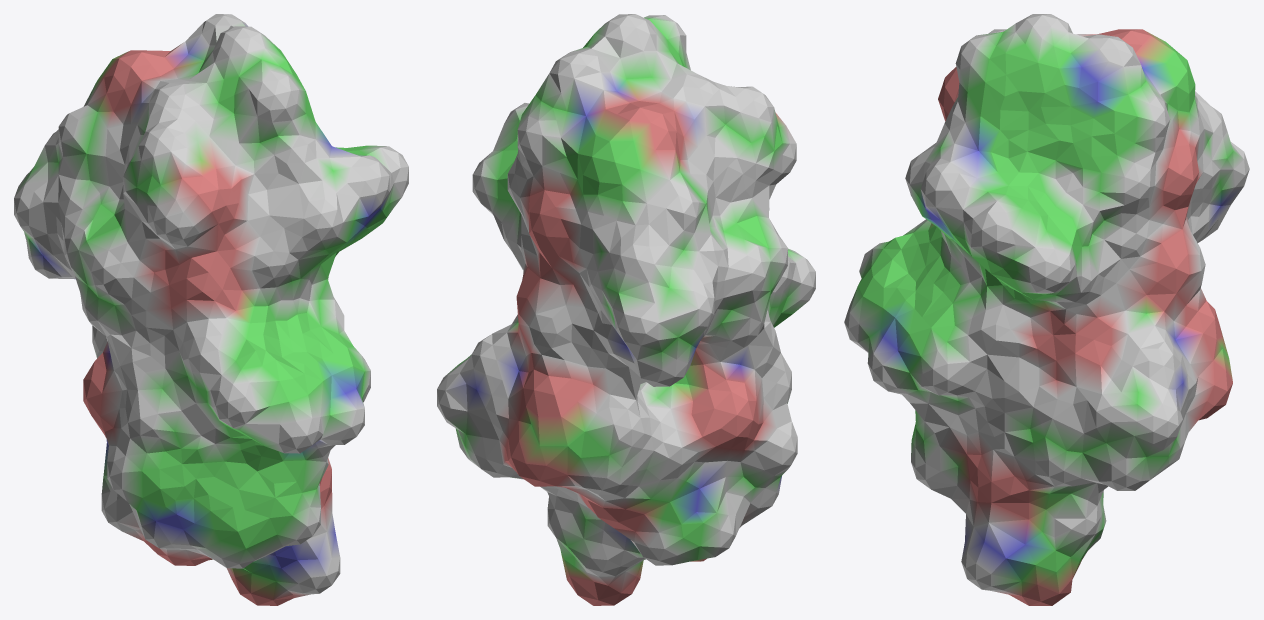
The picture shows the model from 3 angles, left to right: view 1: azimuth 30°, elevation 25°; view 2: azimuth 150°, elevation 25°; view 3: azimuth 270°, elevation 25°; orthographic projection. The views are drawn at different scales.
Parts seen in each view (by area): view 1: Renderer Node; view 2: Renderer Node; view 3: Renderer Node.
Boxes of the visible parts, box(x1,y1,x2,y2) form: Renderer Node: box(14, 14, 408, 605); Renderer Node: box(437, 14, 815, 605); Renderer Node: box(844, 14, 1249, 605).
Bounding box in the file's own units: 14.08 × 25.86 × 16.46.
